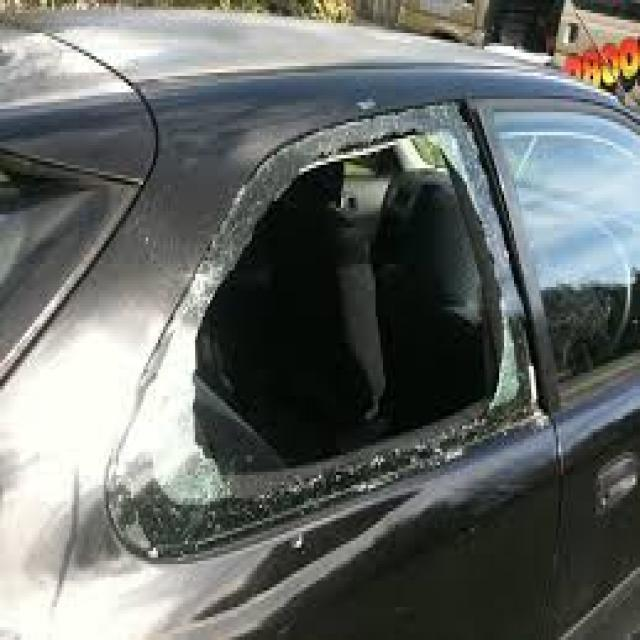damaged-window: (138, 106, 548, 524)
